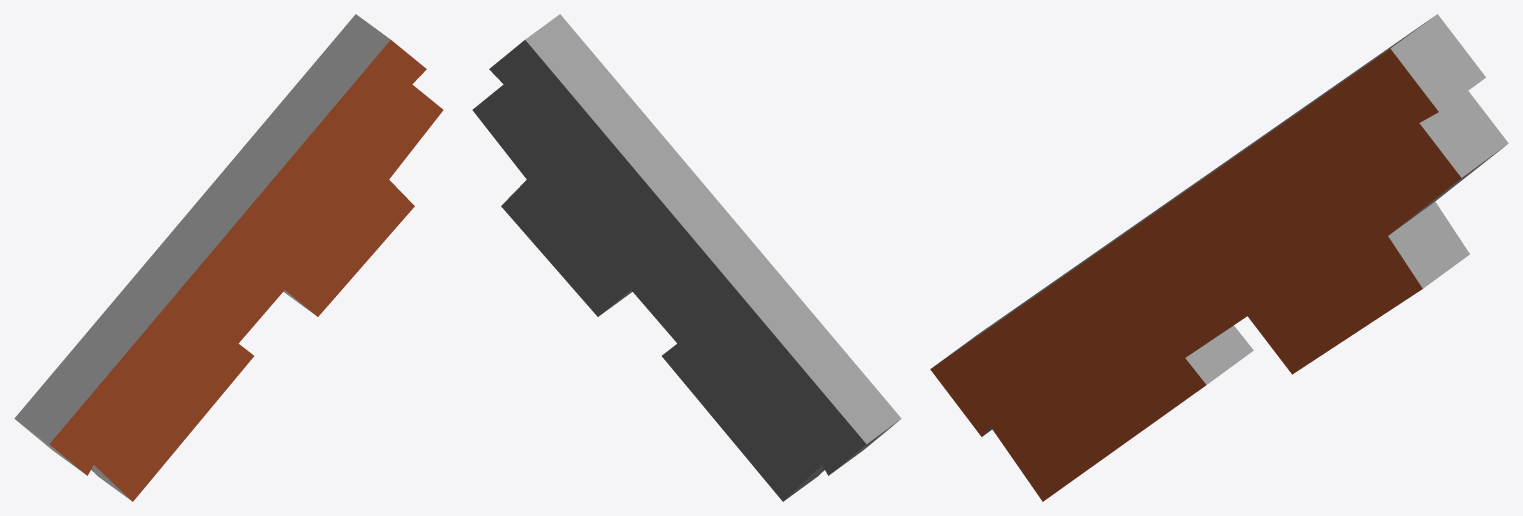
File: construction_1988_assumed_A_Casa_h6m.obj
The picture shows the model from 3 angles, left to right: view 1: azimuth 30°, elevation 25°; view 2: azimuth 150°, elevation 25°; view 3: azimuth 330°, elevation 25°; orthographic projection. The views are drawn at different scales.
Visible parts, largest first — view 1: construction_1988_assumed_A_Casa; view 2: construction_1988_assumed_A_Casa; view 3: construction_1988_assumed_A_Casa.
Boxes of the visible parts, left/top/right/bottom form: construction_1988_assumed_A_Casa: left=14, top=14, right=443, bottom=501; construction_1988_assumed_A_Casa: left=472, top=14, right=901, bottom=501; construction_1988_assumed_A_Casa: left=930, top=14, right=1508, bottom=501.
Size of the model in its own units: 38.95 by 37.7 by 6.
